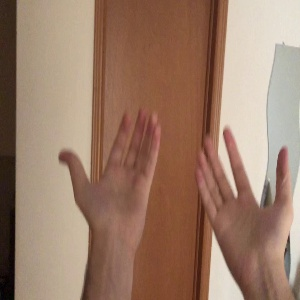hand: (60, 108, 161, 239), (195, 126, 294, 256)
